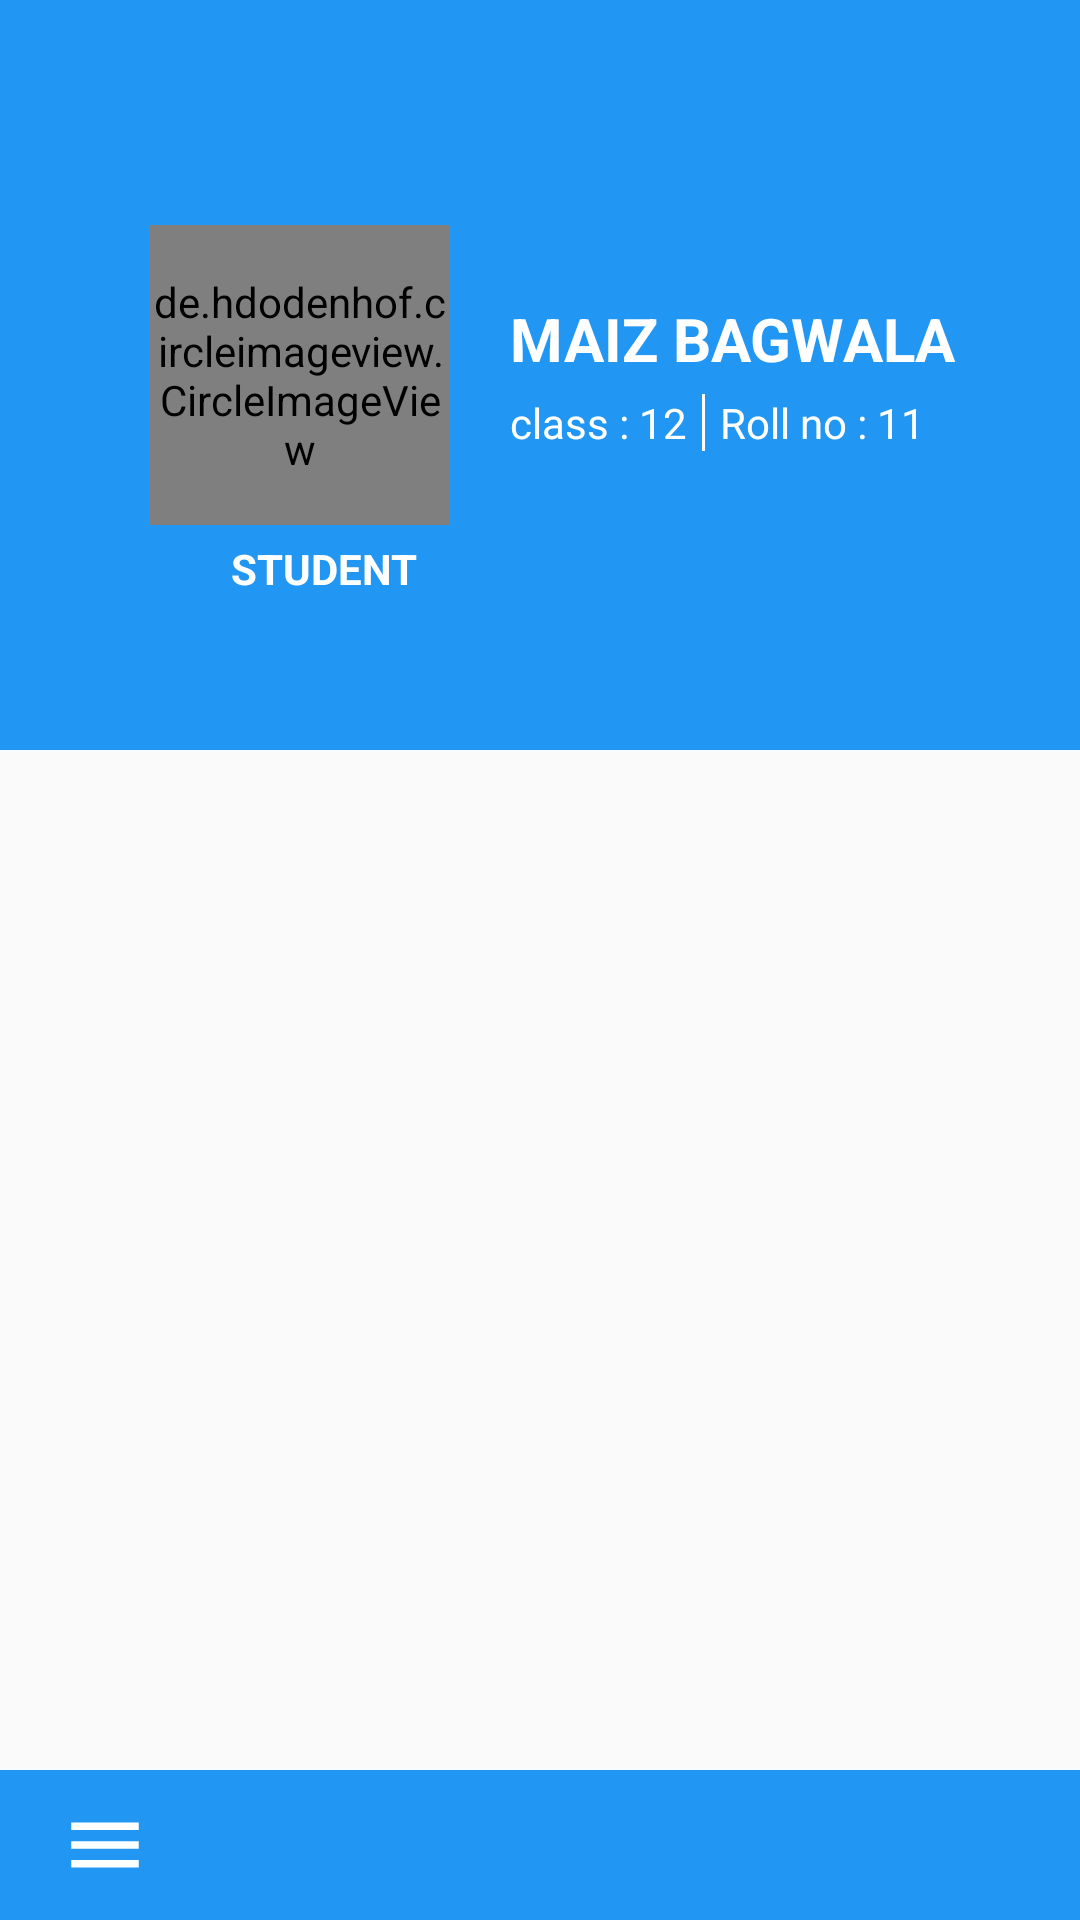

Locate icon controls on the screen. Image size 1080*1920, boxes as {"x1": x1, "y1": y1, "x2": x2, "y2": y2}.
menu: {"x1": 71, "y1": 1822, "x2": 139, "y2": 1868}
